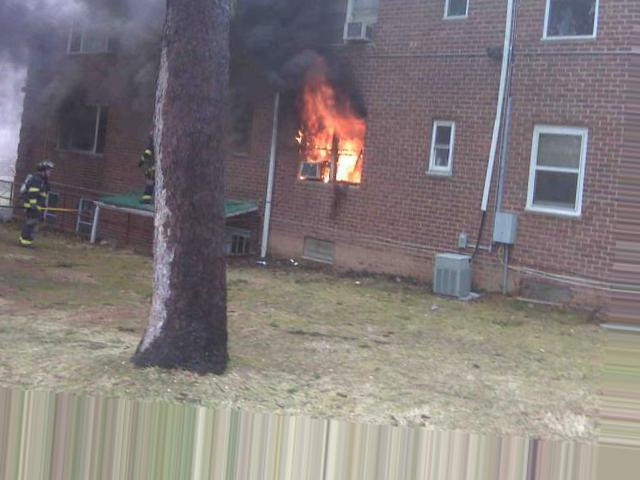fire: (292, 102, 374, 184)
